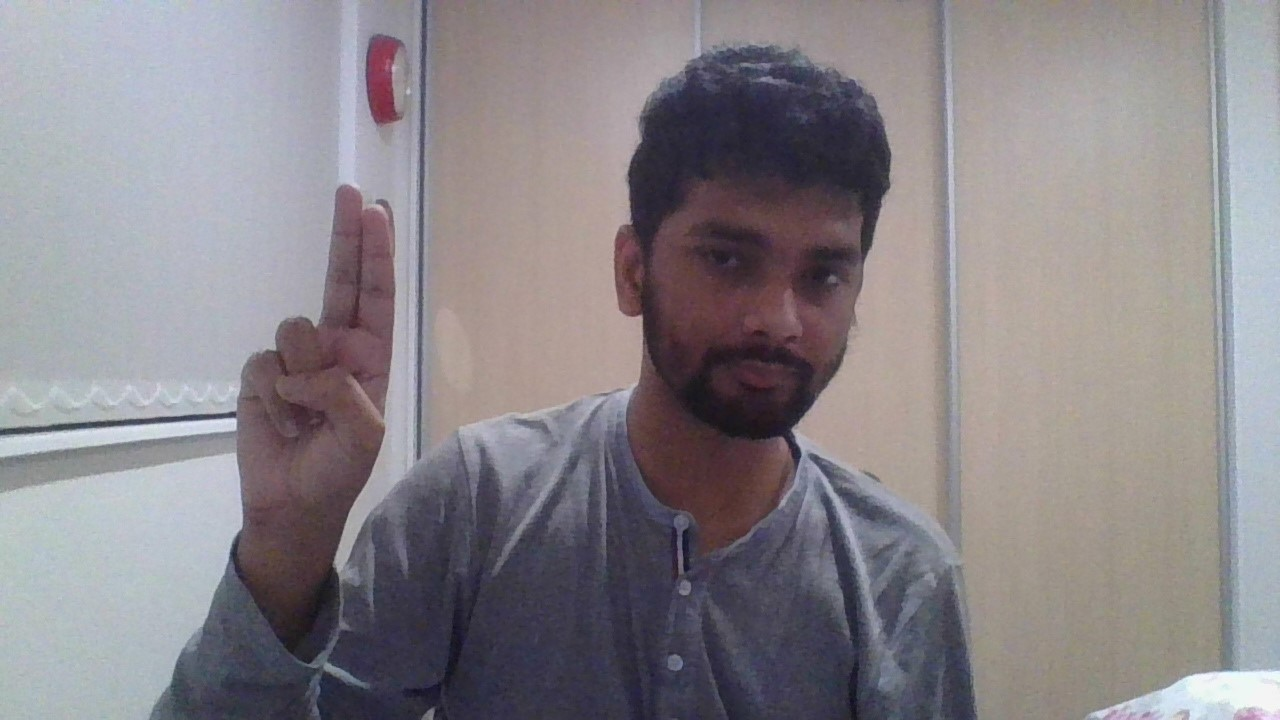peace: (236, 185, 397, 511)
